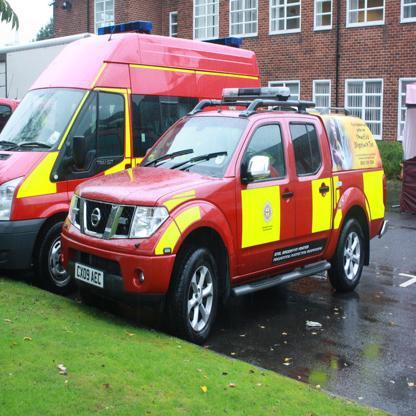ambulance: (28, 22, 402, 321)
